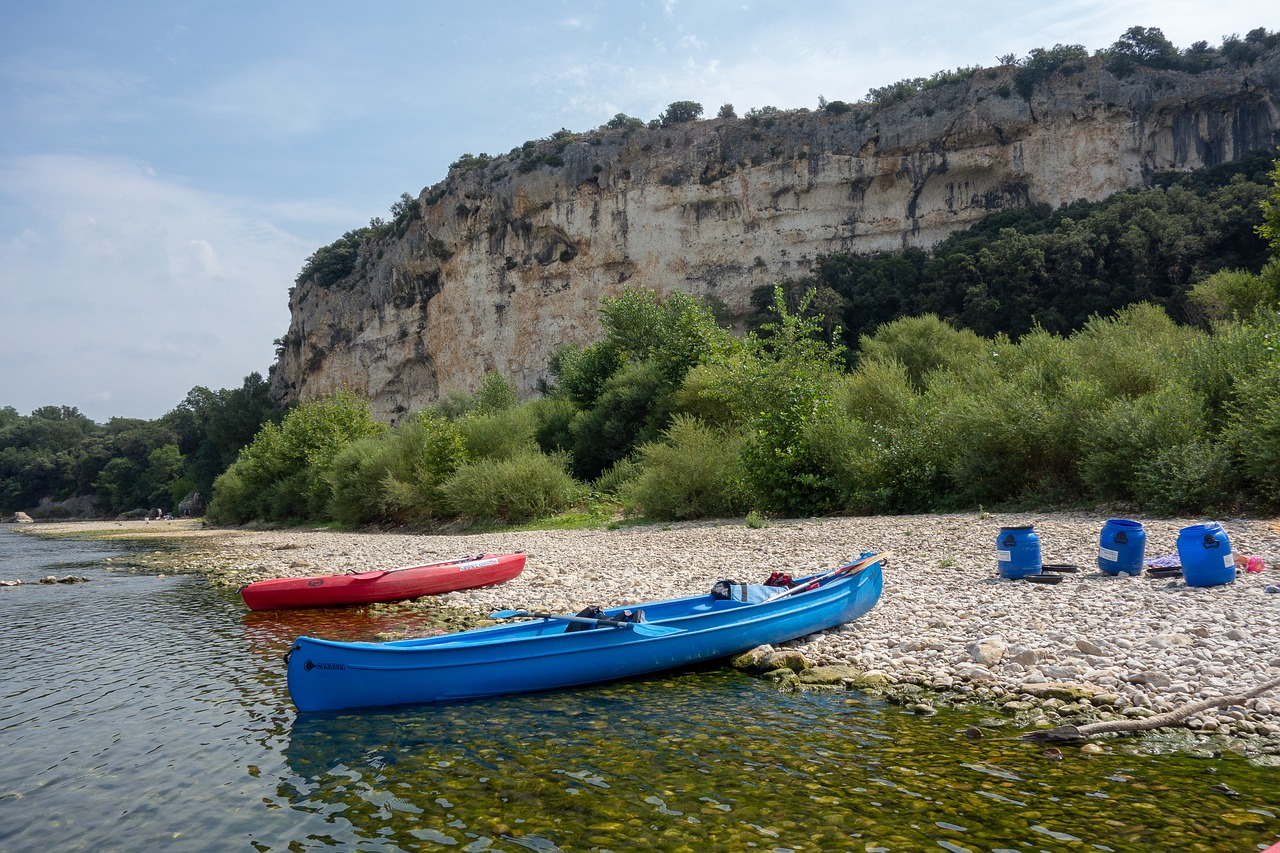kayak: (281, 541, 893, 727), (224, 543, 529, 610)
